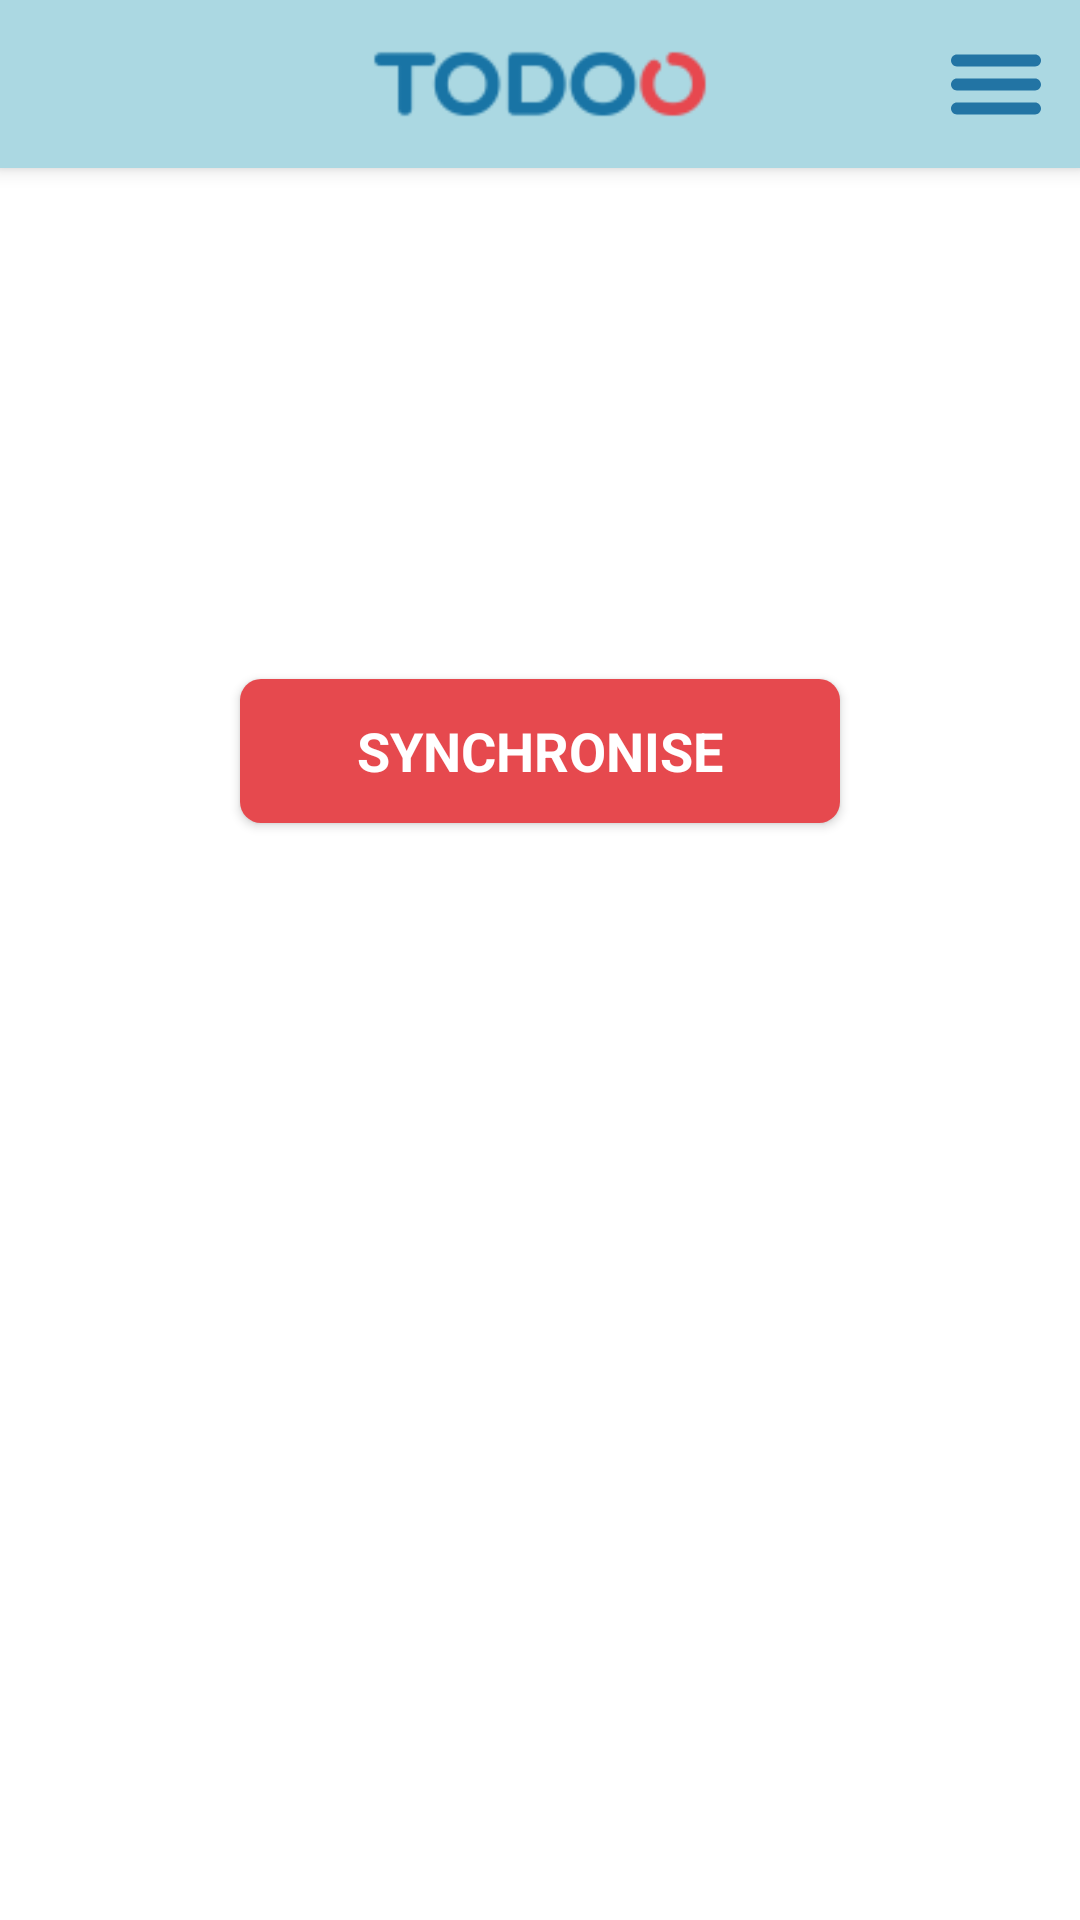

Named icons in this screenshot (1080px×1920px) and their bounding boxes, [x1,y1,x2,y2]:
menu: [951,54,1041,115]
